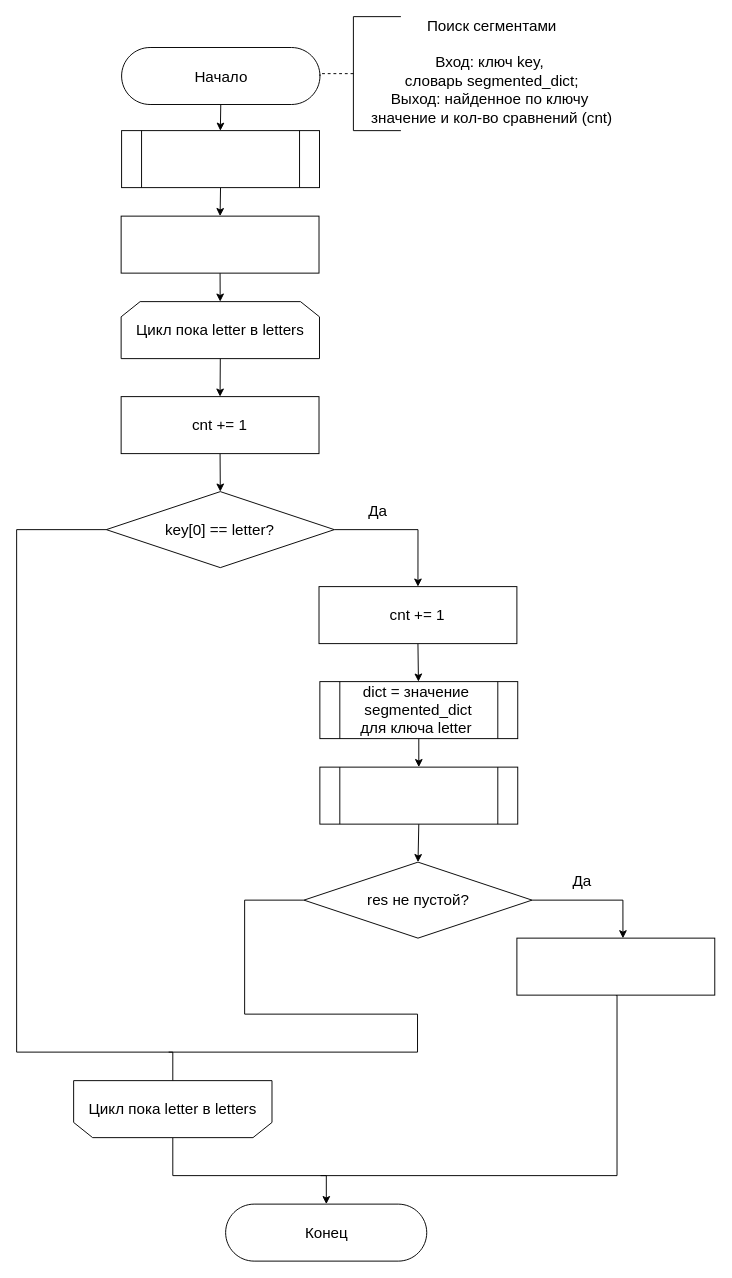
The diagram is 732 pixels wide and 1278 high, and some of its shapes have lost their labels. The shapes that lost their labels are listed below. From the top down, each one's centre as x and y in pixels, then its label:
At (220,159): "Получить массив ключей letters из словаря".
At (219,244): "cnt = 0".
At (418,795): "res = binary_search (key, dict )".
At (615,966): "вернуть res[0], cnt + res[1]".
